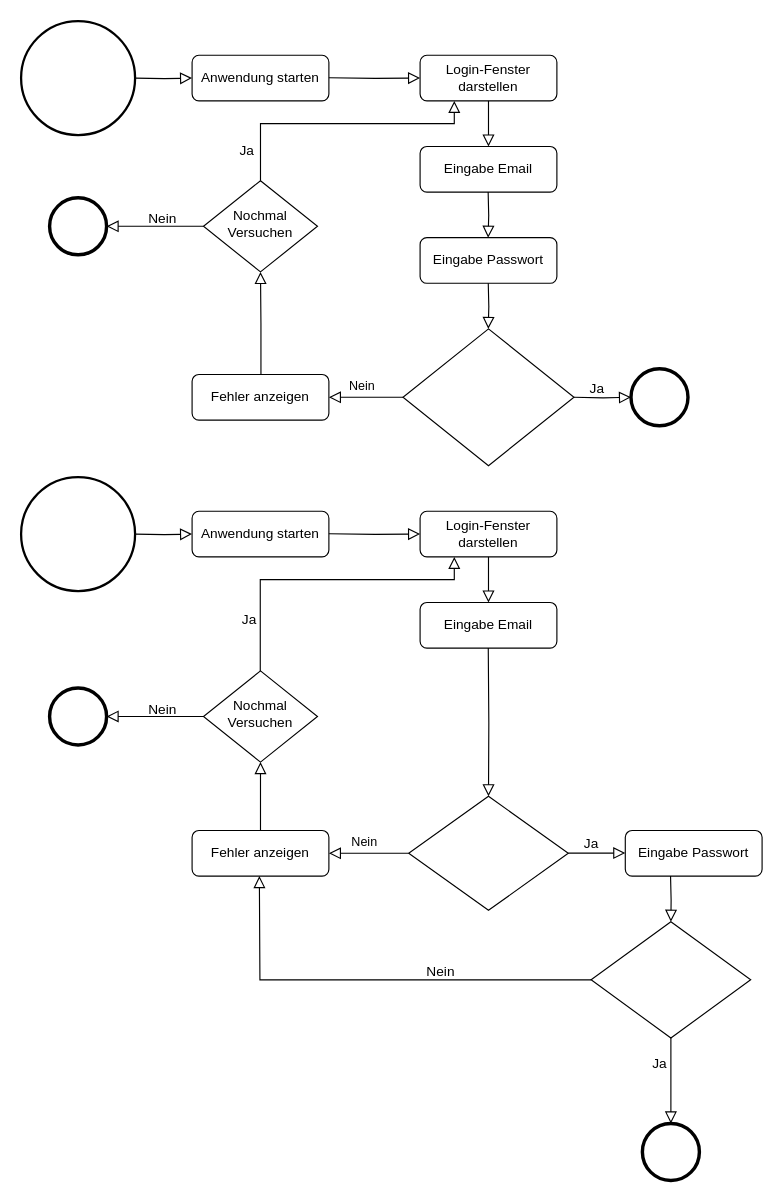
Image size: 782x1200. Some labels were removed from this diagram. The shapes that lost their labels are listed below. From the top down, each one's centre as x and y in pixels, then its label:
At [488,397]: "Email passt zu eingegebenen Passwort in der Datenbank?".
At [488,852]: "Email passt zu gespeichertem User-Profil".
At [670,979]: "Passwort passt zu Email".
